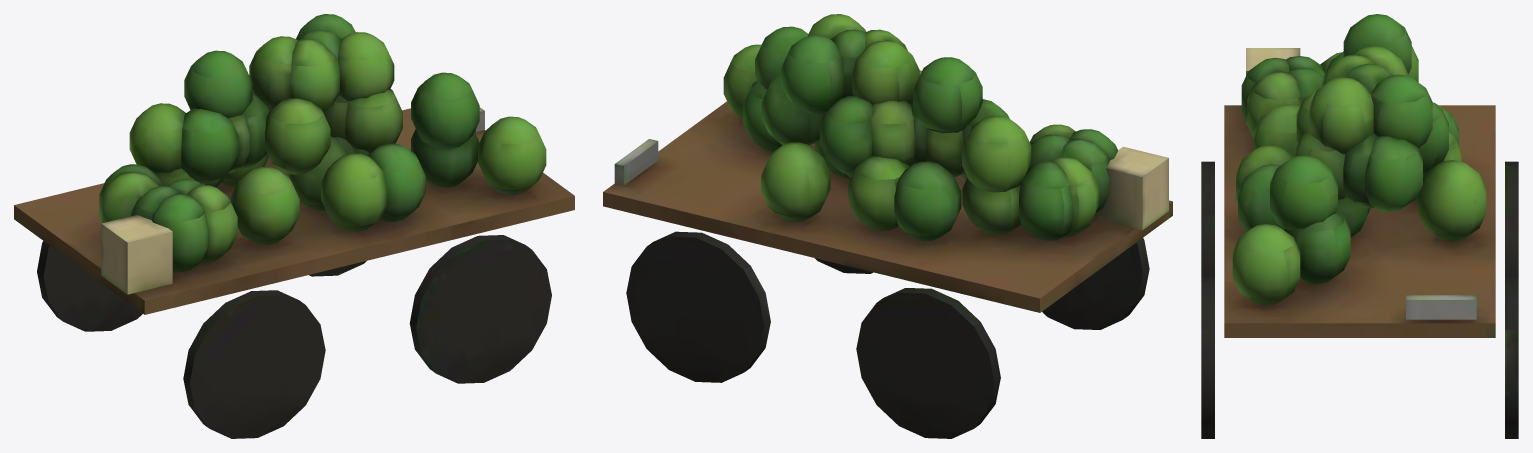
Rendered from coconut_cart.glb.
The picture shows the model from 3 angles, left to right: view 1: azimuth 30°, elevation 25°; view 2: azimuth 150°, elevation 25°; view 3: azimuth 270°, elevation 25°; orthographic projection. The views are drawn at different scales.
Visible parts, largest first — view 1: body; view 2: body; view 3: body.
Part boxes in pixels (x1=…): body: x1=14, y1=14, x2=574, y2=438; body: x1=603, y1=14, x2=1172, y2=438; body: x1=1201, y1=14, x2=1518, y2=438.
Bounding box in the file's own units: 1.93 × 1.31 × 1.17.
Materials: 1 (1 with a texture image).
